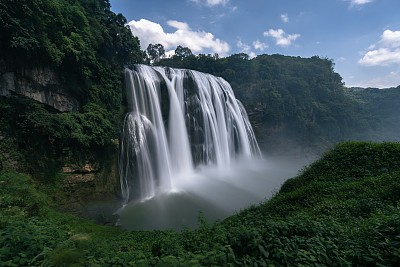Huangguoshu: (118, 64, 264, 204)
